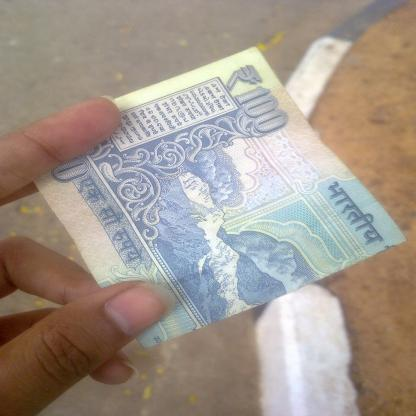Old100Back: (33, 46, 405, 349)
